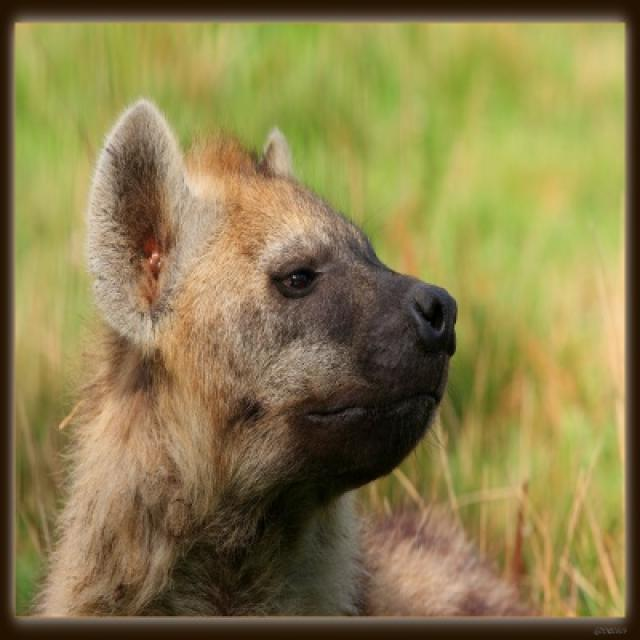hyena: (40, 99, 528, 613)
